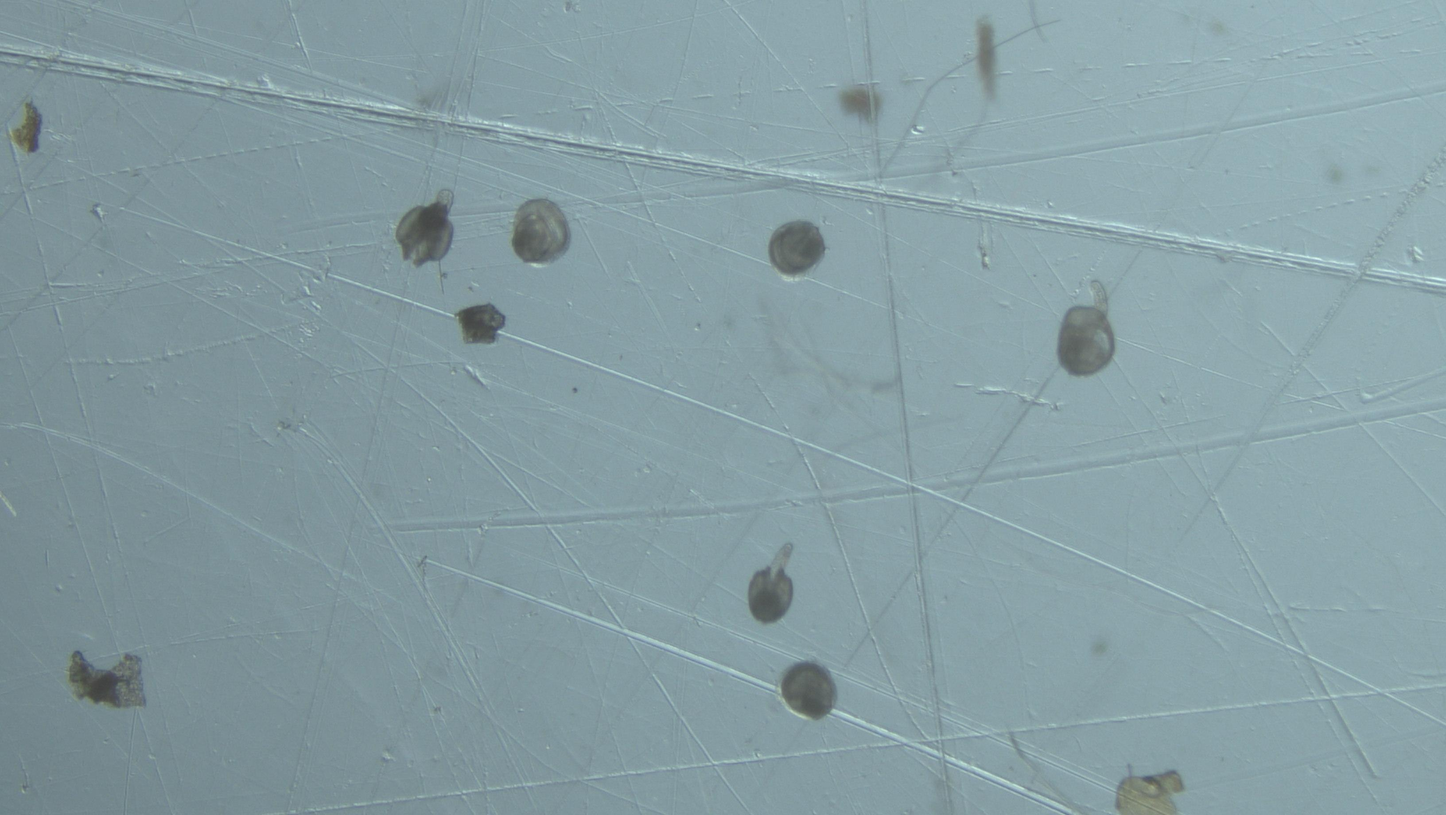live: (1057, 281, 1116, 377), (395, 190, 455, 268), (511, 198, 571, 267), (748, 543, 794, 625), (779, 661, 837, 721), (769, 221, 826, 278)
